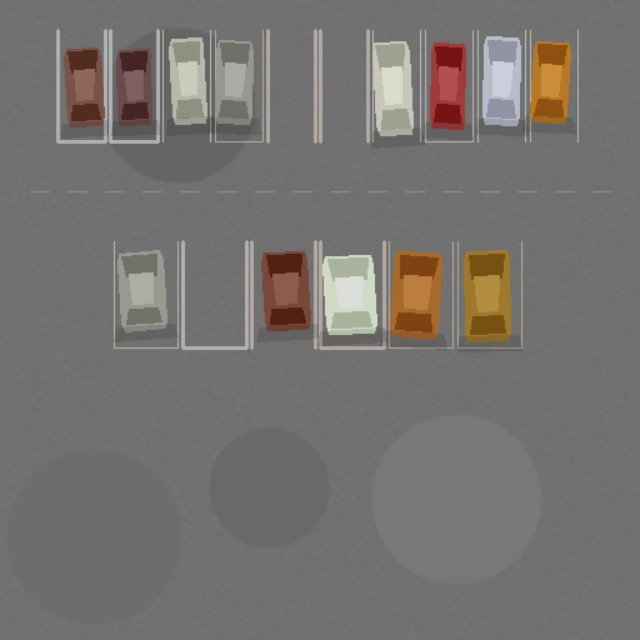space-empty: (183, 241, 246, 348), (267, 30, 315, 141), (320, 30, 367, 141)
space-occupied: (251, 241, 315, 348), (320, 241, 384, 348), (389, 241, 453, 348), (457, 241, 521, 348), (114, 241, 177, 348), (57, 30, 105, 141), (215, 30, 263, 141), (425, 30, 473, 141), (477, 30, 525, 141), (110, 30, 157, 141), (163, 30, 210, 141), (373, 30, 420, 141), (530, 30, 577, 141)
